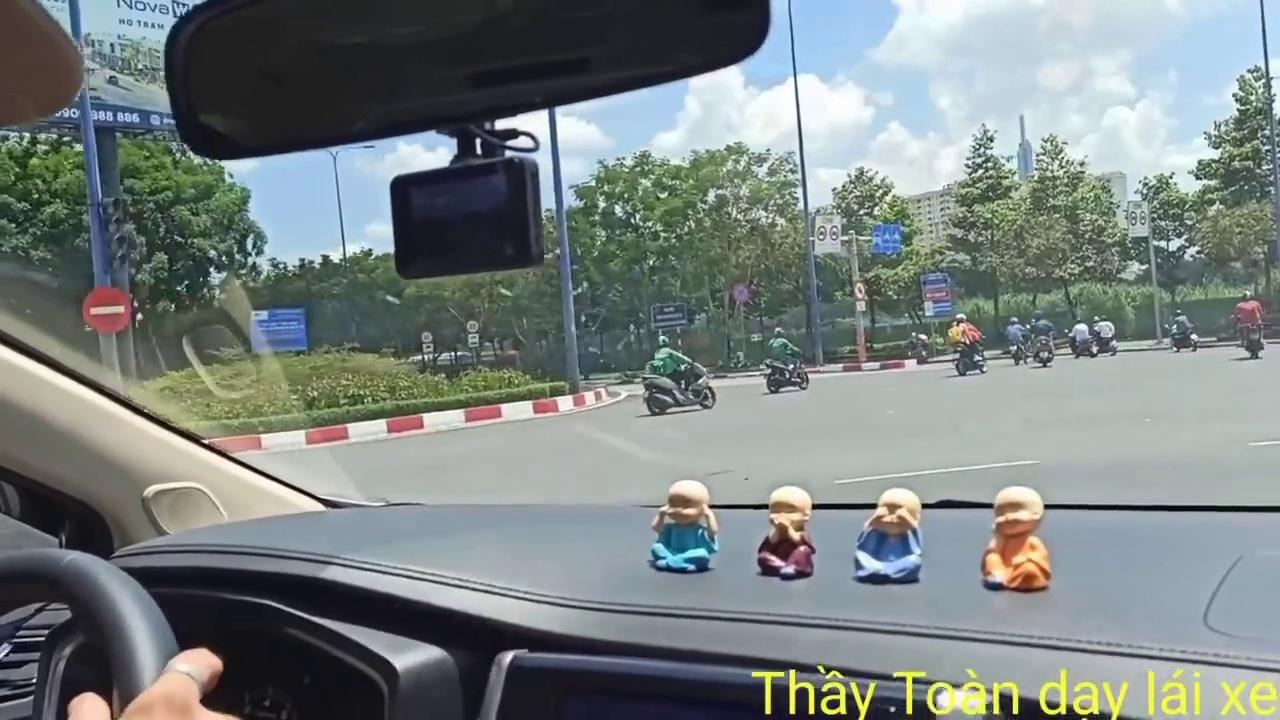Biển phụ: (467, 332, 479, 348), (423, 342, 435, 354)
Cấm cac phương tiện hoạt động trong khung giờ cố định: (814, 214, 841, 254)
Cấm dừng - Cấm đỗ: (730, 280, 752, 304)
Cấm xe máy: (852, 279, 866, 301)
Cấm đi ngược chiều: (80, 284, 134, 334)
Khác: (248, 306, 310, 354), (919, 272, 956, 317), (650, 301, 688, 329)
Làn đường cho từng xe: (870, 222, 902, 255)
